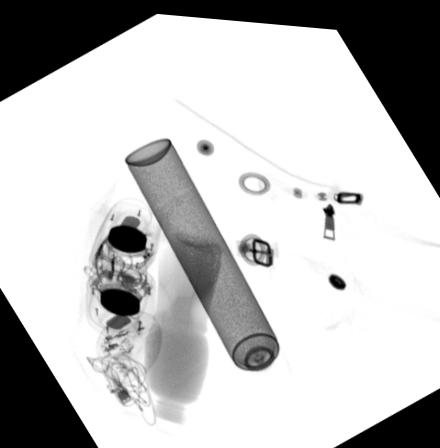Sprayer: (121, 132, 294, 397)
